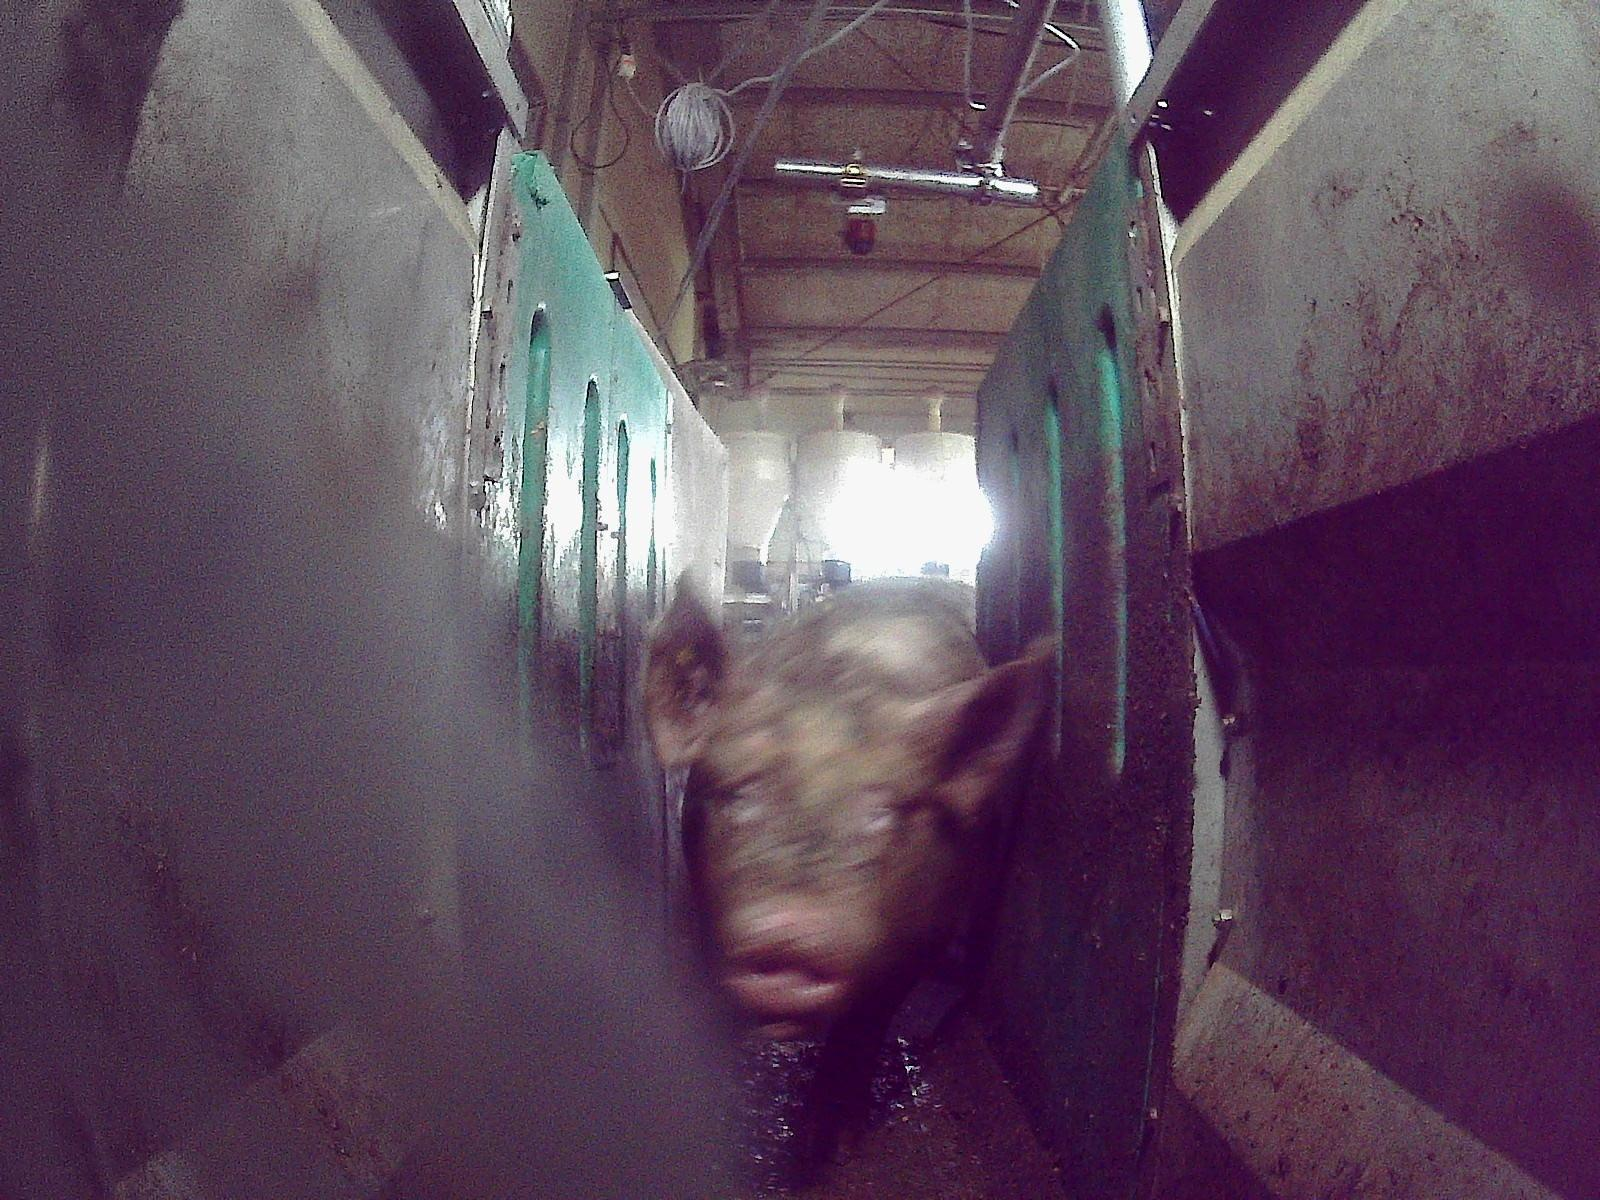Face: (692, 701, 946, 1024)
